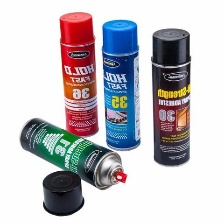aerosol_cans: (17, 114, 129, 194), (149, 26, 194, 169), (98, 16, 142, 155), (56, 8, 101, 141)
